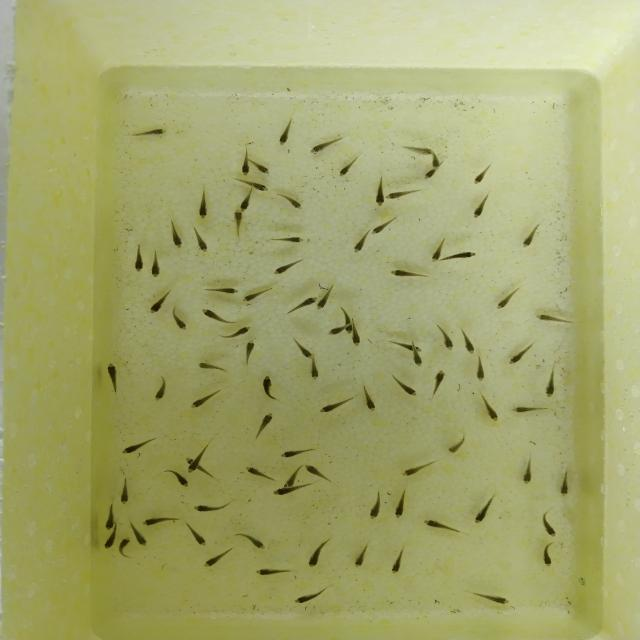fingerling: (473, 490, 499, 526), (423, 516, 463, 538), (493, 283, 523, 312), (391, 372, 421, 399), (541, 360, 561, 400), (118, 436, 157, 456), (476, 390, 499, 423), (286, 333, 314, 360), (506, 339, 534, 366), (317, 396, 356, 415), (291, 586, 328, 606), (471, 588, 512, 606), (538, 508, 561, 540), (286, 294, 318, 316), (305, 538, 328, 568), (534, 307, 570, 326), (437, 322, 457, 356), (276, 114, 297, 146), (189, 389, 221, 410), (201, 306, 237, 324), (402, 458, 434, 478), (388, 547, 410, 576), (366, 487, 384, 522), (336, 153, 359, 180), (302, 462, 330, 484), (234, 532, 268, 550), (154, 471, 190, 488), (518, 454, 537, 486), (183, 524, 208, 548), (168, 307, 192, 332), (306, 138, 339, 156), (244, 284, 272, 305), (538, 540, 559, 568), (268, 231, 307, 246), (256, 411, 276, 440), (361, 384, 381, 413), (392, 488, 409, 522), (555, 466, 573, 498), (521, 224, 544, 249), (141, 513, 182, 527), (460, 326, 479, 356), (148, 250, 167, 280), (390, 268, 430, 282), (430, 369, 450, 397), (203, 550, 234, 568), (146, 291, 169, 315), (471, 163, 493, 188), (271, 260, 303, 277), (116, 474, 132, 508), (217, 325, 253, 340), (371, 216, 398, 236), (192, 228, 212, 255), (129, 126, 170, 139), (277, 447, 318, 460), (351, 541, 370, 569), (105, 363, 121, 396), (473, 353, 490, 384), (260, 375, 278, 404), (316, 284, 336, 310), (245, 464, 272, 483), (471, 190, 488, 220), (168, 220, 185, 250), (278, 194, 306, 212), (152, 376, 170, 404), (195, 193, 213, 220), (450, 248, 480, 264), (511, 403, 551, 415), (271, 484, 310, 496), (253, 565, 292, 577), (130, 246, 147, 273), (352, 230, 371, 254), (372, 177, 387, 207), (386, 188, 420, 201), (229, 209, 244, 238), (242, 340, 258, 367), (281, 468, 303, 487), (445, 436, 467, 454), (196, 361, 228, 373), (134, 526, 150, 550), (195, 505, 233, 515), (399, 146, 436, 156), (240, 189, 256, 212), (103, 502, 116, 530), (99, 532, 119, 550), (429, 238, 444, 262), (117, 535, 134, 555), (306, 361, 322, 382), (203, 286, 240, 295), (390, 343, 422, 353), (236, 158, 252, 177), (256, 160, 272, 178), (250, 182, 272, 194), (349, 333, 364, 349), (325, 326, 343, 337), (410, 355, 425, 368), (421, 170, 437, 182), (187, 462, 200, 473), (344, 320, 353, 334), (430, 158, 441, 169)
